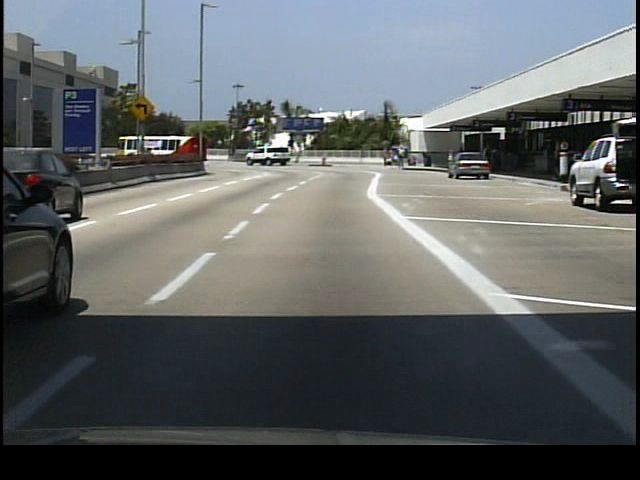person: (482, 149, 498, 181), (396, 144, 406, 173), (381, 147, 389, 171)
